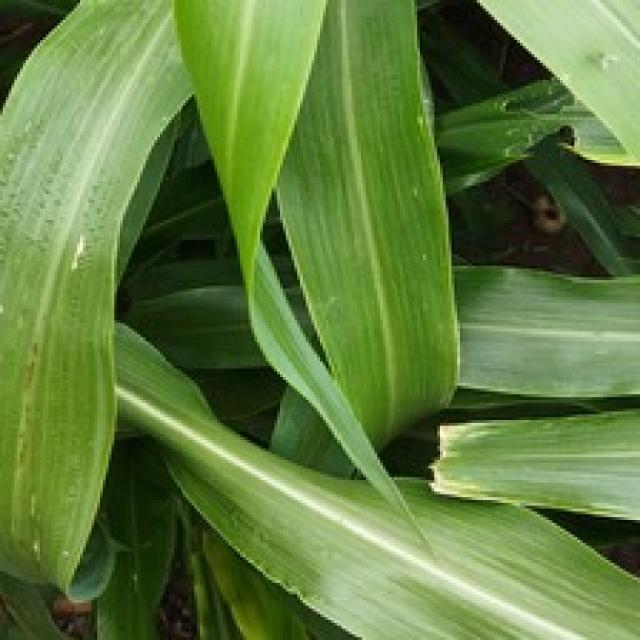Corn: (0, 0, 637, 637), (0, 0, 194, 600), (166, 0, 380, 477), (268, 0, 460, 474)
